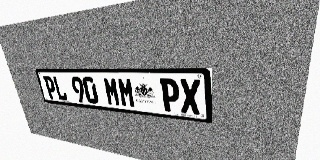0: (82, 77, 99, 104)
9: (70, 76, 87, 103)
L: (52, 76, 68, 101)
M: (117, 77, 136, 108), (103, 77, 121, 107)
P: (159, 78, 180, 113), (43, 76, 58, 100)
X: (179, 79, 201, 115)
